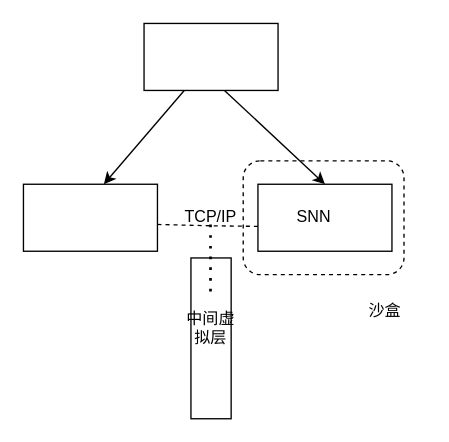
This 449x442 diagram has some shape labels left out. Each missing label, with the centre of its shape:
"业务" goes at (x=89, y=217).
"应用" goes at (x=210, y=56).
